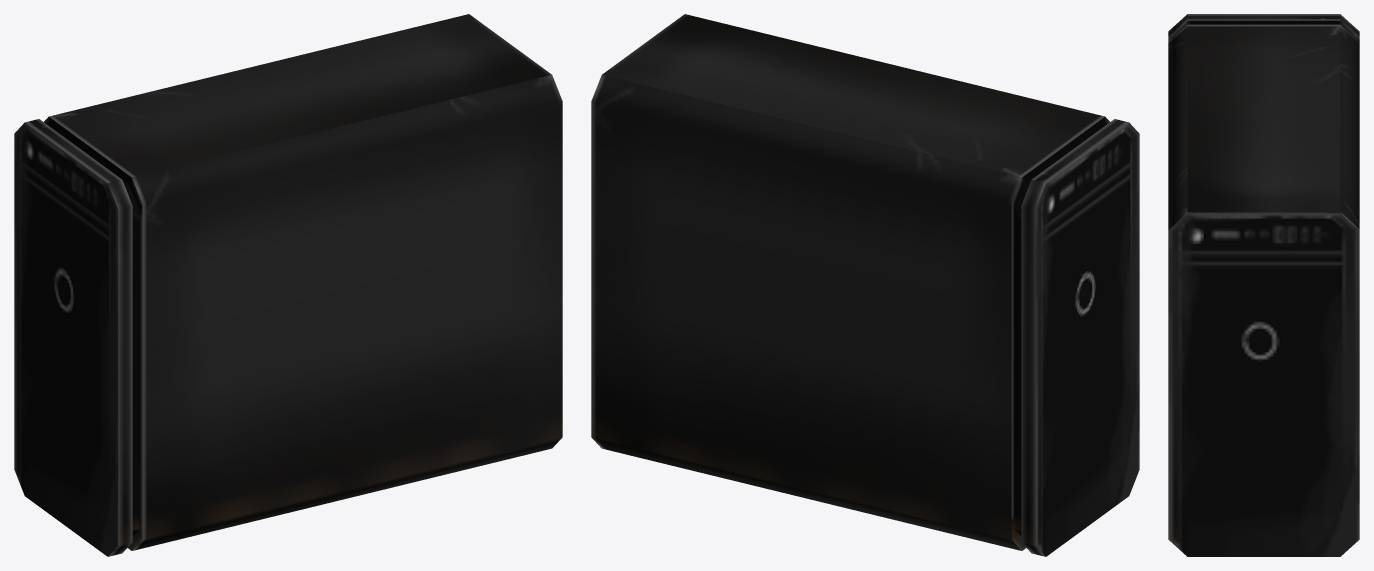
Rendered from pc tower.fbx.
3 views of the same model, side by side, from view 1: azimuth 30°, elevation 25°; view 2: azimuth 150°, elevation 25°; view 3: azimuth 270°, elevation 25° (orthographic). The views are drawn at different scales.
Parts seen in each view (by area): view 1: polySurface100; view 2: polySurface100; view 3: polySurface100.
Part boxes in pixels (box(x1,y1,x2,y2)): polySurface100: box(14, 14, 562, 556); polySurface100: box(591, 14, 1139, 556); polySurface100: box(1168, 14, 1359, 556).
Size of the model in its own units: 91.05 by 73.18 by 36.87.
